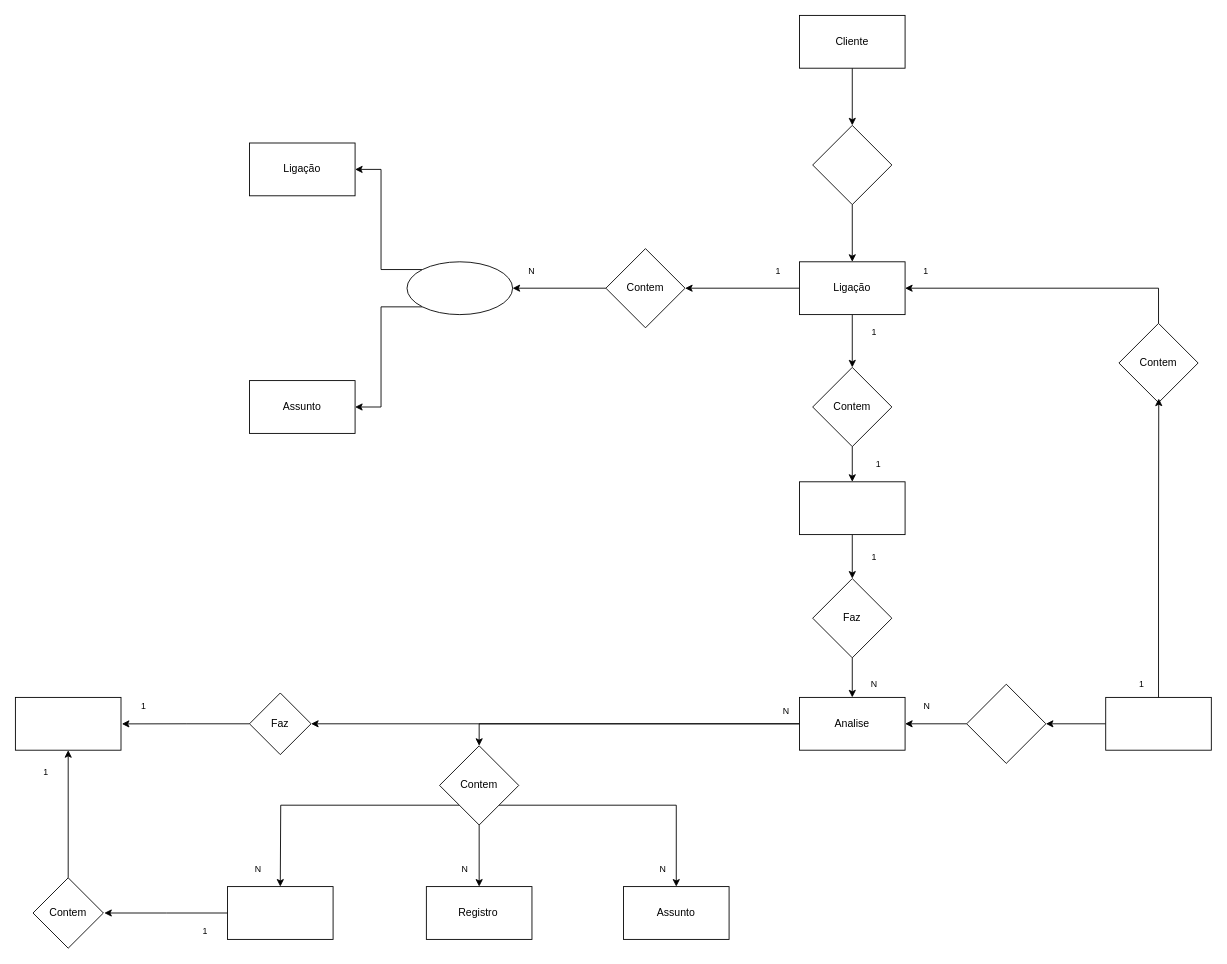
Some shapes in this 1227 by 964 pixel diagram are drawn without their labels. Each missing label, with the centre of its shape:
Alerta: (68,723)
DadosDoCliente: (852,508)
Efetua: (852,165)
LigaçãoAssunto: (459,288)
Resultado: (280,912)
Revisa: (1006,723)
Usuario: (1158,723)
